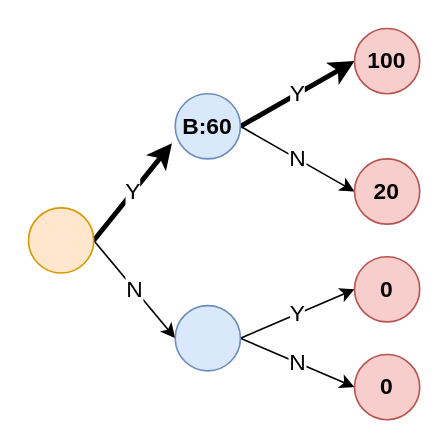
Image size: 448x448. Some labels were removed from this diagram. Each missing label, with the centre of its shape:
"A:30" belongs at [60,239].
"B:0" belongs at [207,337].
